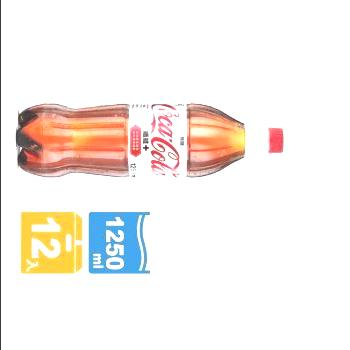bottle: (14, 101, 285, 180)
